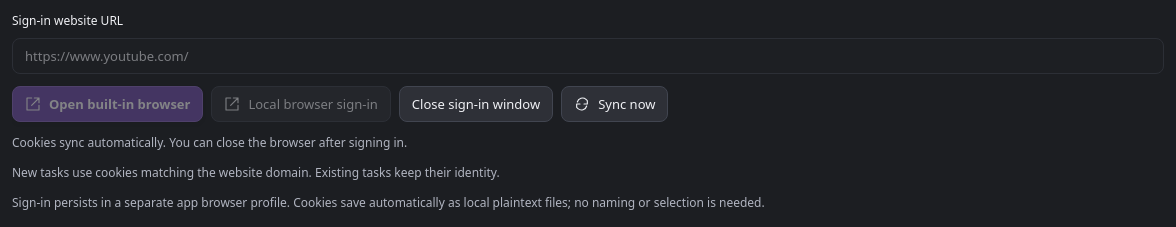
Test: does not let an old poll reopen the UI or overwrite a close result, and skips polls during close
Click the button "Close sign-in window": (476, 104) [399,86,553,122]
Wait 15000 ms
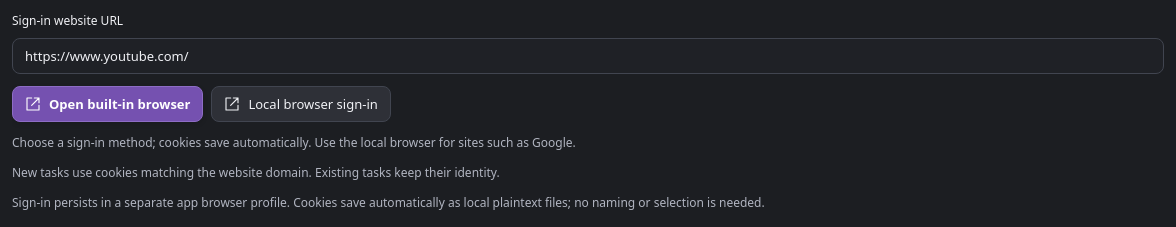
Check: the button "Close sign-in window" is gone
Check: the button "Open built-in browser" is enabled, box [12,86,203,122]
